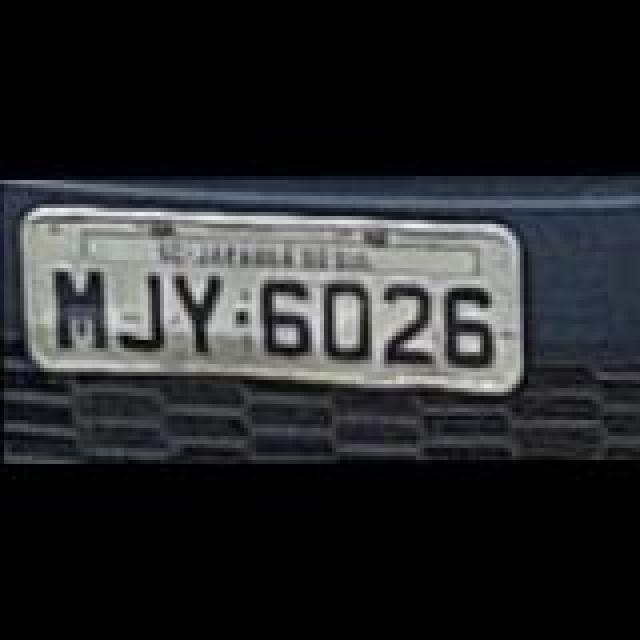2: (384, 280, 436, 364)
6: (260, 274, 312, 354), (444, 286, 496, 366)
D: (324, 278, 376, 358)
J: (112, 272, 164, 352)
M: (58, 266, 106, 350)
Y: (178, 270, 226, 350)
